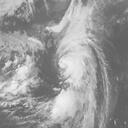cyclone: (59, 46, 95, 85)
